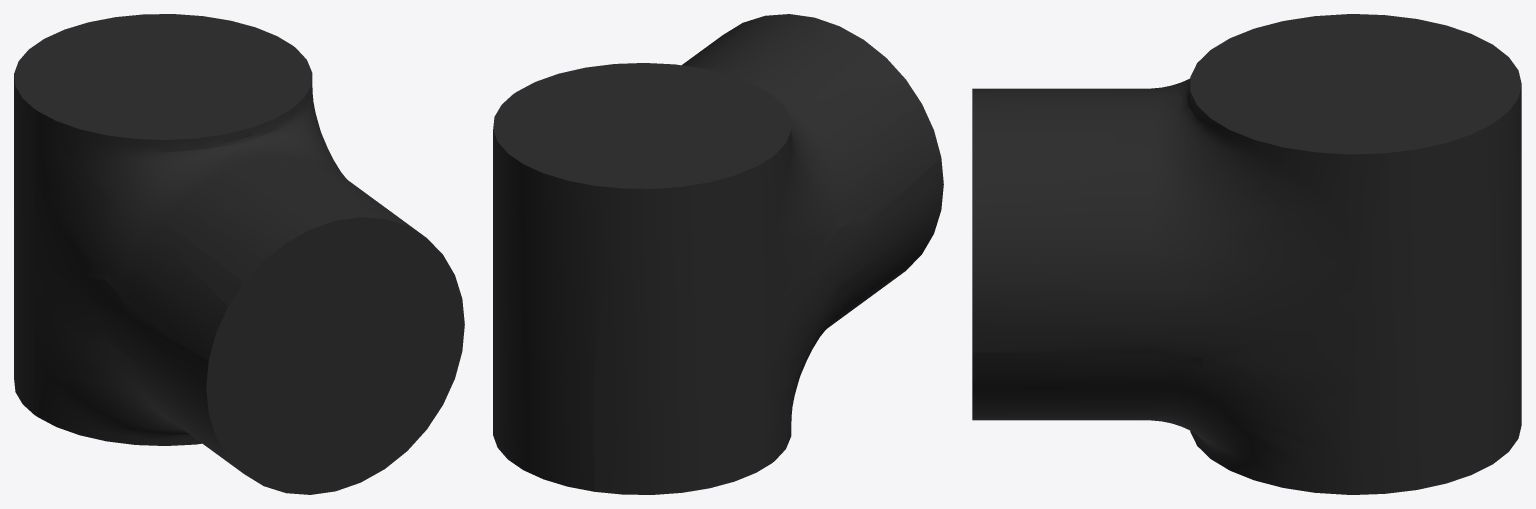
Rendered from buttock_pitch_link.glb.
The picture shows the model from 3 angles, left to right: view 1: azimuth 30°, elevation 25°; view 2: azimuth 150°, elevation 25°; view 3: azimuth 270°, elevation 25°; orthographic projection. The views are drawn at different scales.
Visible parts, largest first — view 1: Mesh_0.015; view 2: Mesh_0.015; view 3: Mesh_0.015.
Boxes of the visible parts, <box> form: Mesh_0.015: <box>14,14,464,494</box>; Mesh_0.015: <box>493,14,943,494</box>; Mesh_0.015: <box>972,14,1521,494</box>.
Bounding box in the file's own units: 0.13 × 0.147 × 0.215.
1 material, 1 textured.
